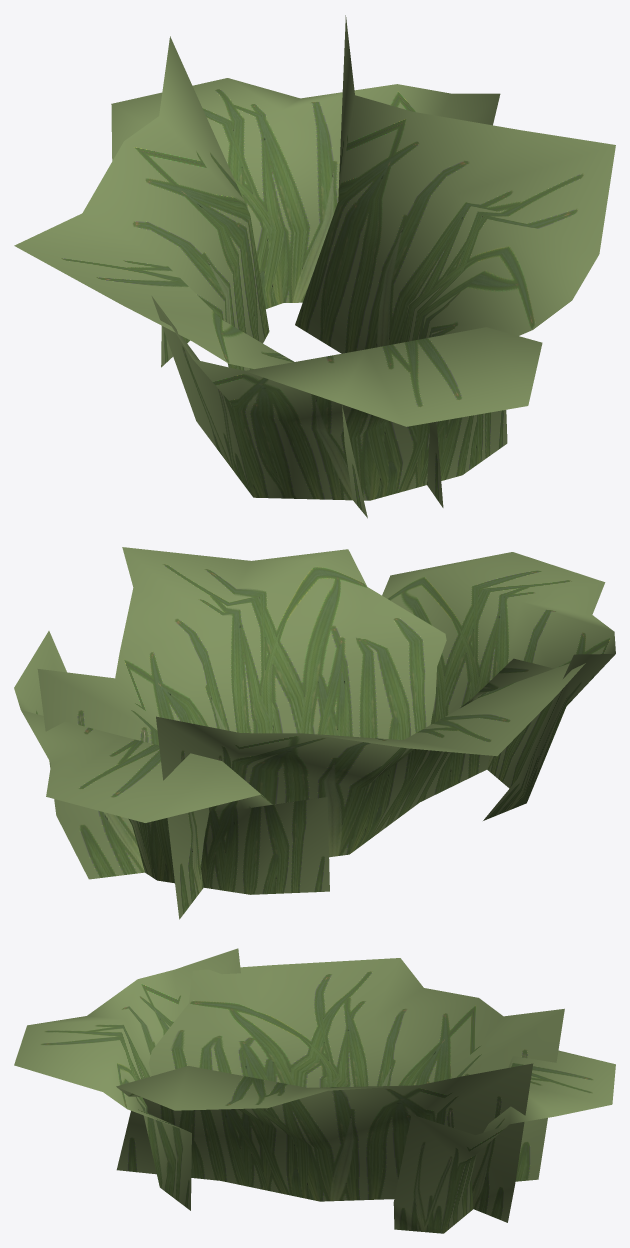
Rendered from GrassPatch_01.FBX.
3 views of the same model, one above another, from view 1: azimuth 30°, elevation 25°; view 2: azimuth 150°, elevation 25°; view 3: azimuth 270°, elevation 25° (orthographic). The views are drawn at different scales.
Visible parts, largest first — view 1: GrassPatch_01; view 2: GrassPatch_01; view 3: GrassPatch_01.
Part boxes in pixels (x1,y1,x2,y2): GrassPatch_01: (14, 15, 615, 518); GrassPatch_01: (14, 547, 615, 919); GrassPatch_01: (14, 948, 615, 1233).
Bounding box in the file's own units: 42.36 × 18.93 × 59.43.
1 material, 1 textured.
